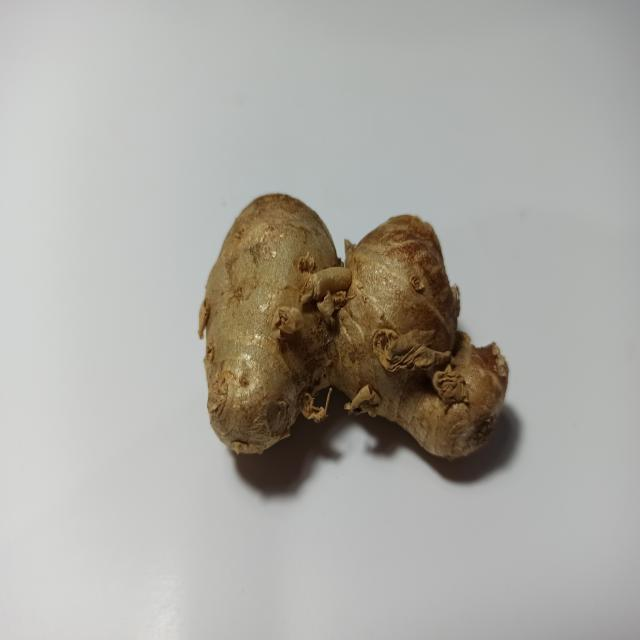ginger: (208, 181, 498, 465)
